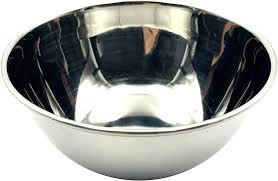Sponge Bowl: (3, 2, 264, 176)
